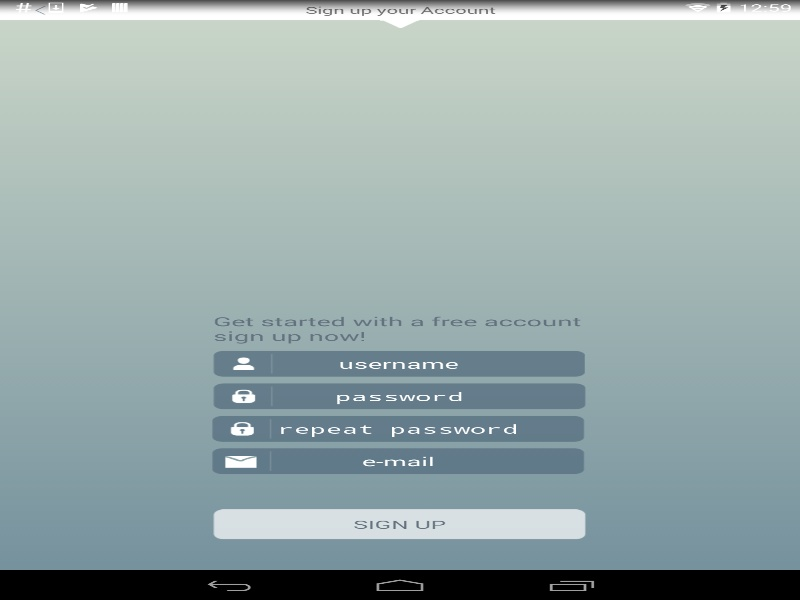Button: (213, 509, 586, 539)
Input: (213, 383, 586, 409), (212, 415, 584, 441), (212, 448, 584, 474), (213, 350, 584, 376)
